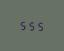five: (27, 19, 34, 31), (18, 19, 25, 30), (35, 20, 42, 31)
